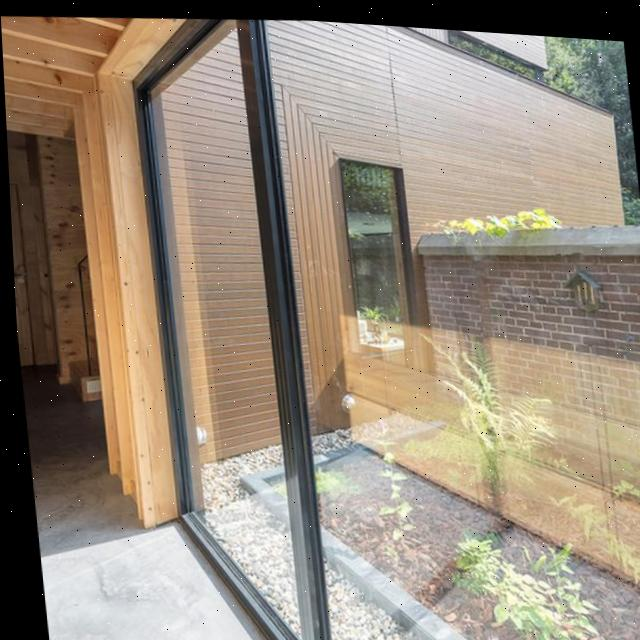building: (155, 10, 640, 509)
